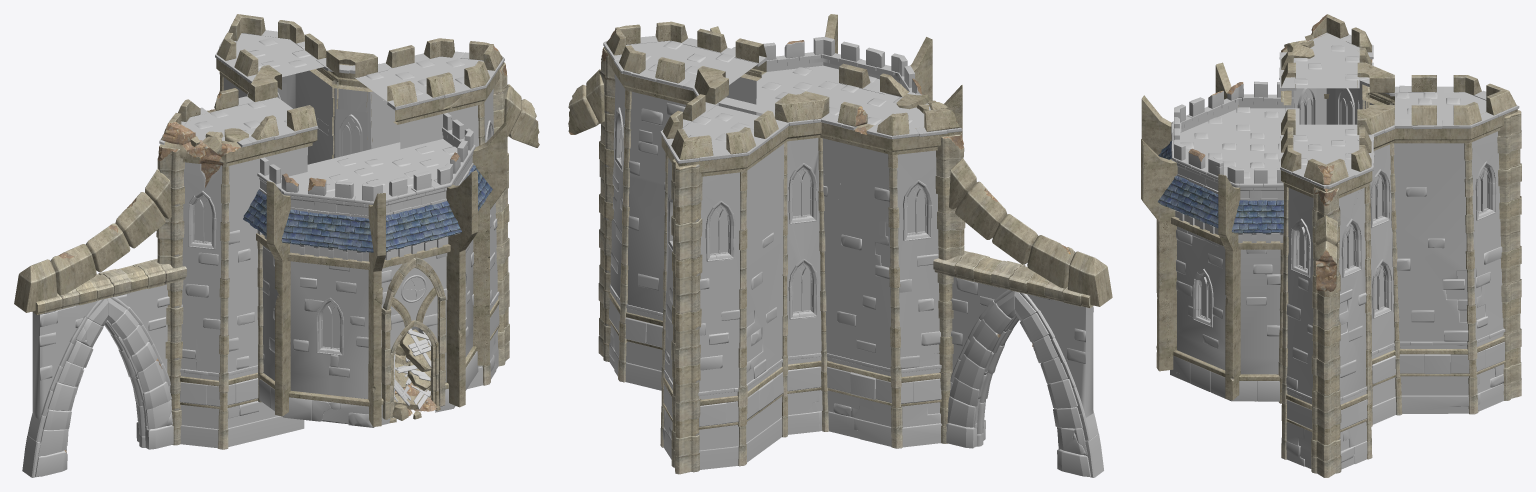
3 renders of one model, left to right at view 1: azimuth 30°, elevation 25°; view 2: azimuth 150°, elevation 25°; view 3: azimuth 270°, elevation 25°, orthographic. The views are drawn at different scales.
Visible parts, largest first — view 1: SM_Magic_Institute_01v02_Bottom_LOD0; view 2: SM_Magic_Institute_01v02_Bottom_LOD0; view 3: SM_Magic_Institute_01v02_Bottom_LOD0.
Boxes of the visible parts, x1,y1,x2,y2 form: SM_Magic_Institute_01v02_Bottom_LOD0: (14, 14, 539, 477); SM_Magic_Institute_01v02_Bottom_LOD0: (568, 14, 1112, 477); SM_Magic_Institute_01v02_Bottom_LOD0: (1141, 14, 1521, 477).
Size of the model in its own units: 40.78 by 23.97 by 27.16.
